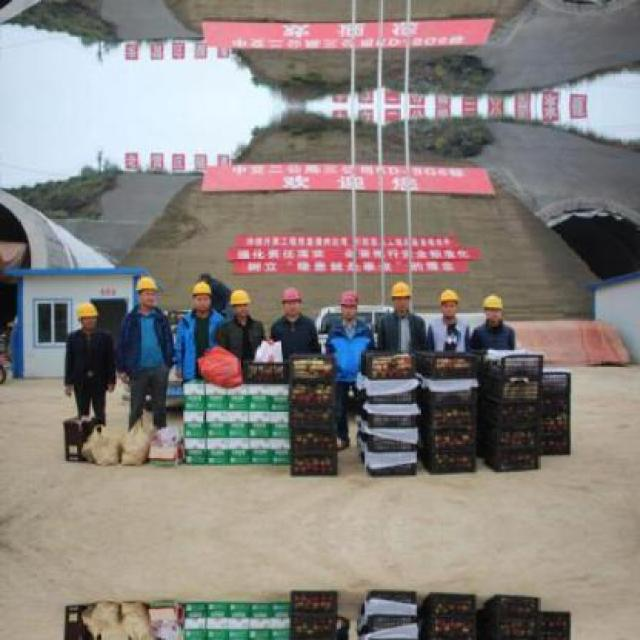helmet: (72, 298, 98, 330), (388, 280, 412, 314), (189, 277, 211, 314), (136, 272, 159, 306), (483, 290, 505, 325), (229, 286, 251, 320), (438, 288, 460, 322), (280, 285, 302, 315), (337, 289, 358, 317)
